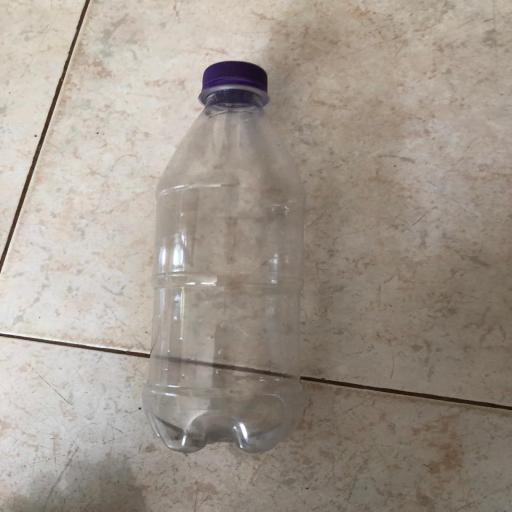waste: (118, 36, 340, 473)
